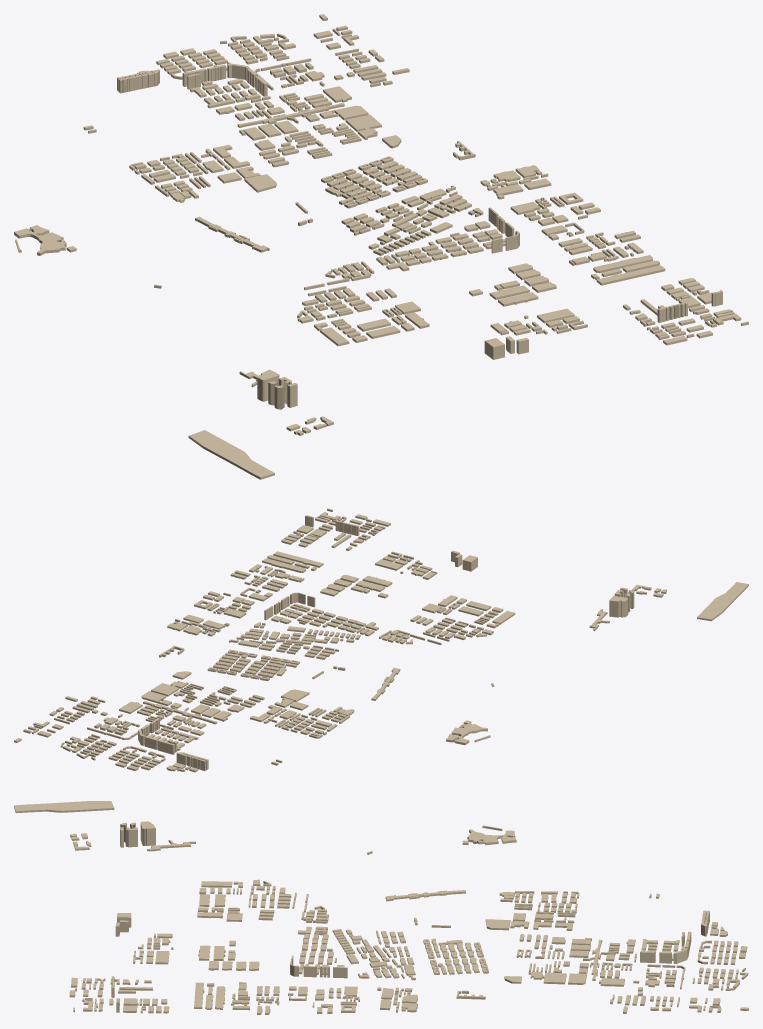
Rendered from overview-estimated--7_5.glb.
3 views of the same model, one above another, from view 1: azimuth 30°, elevation 25°; view 2: azimuth 150°, elevation 25°; view 3: azimuth 270°, elevation 25° (orthographic). The views are drawn at different scales.
Bounding box in the file's own units: 2938 × 112 × 4303.
